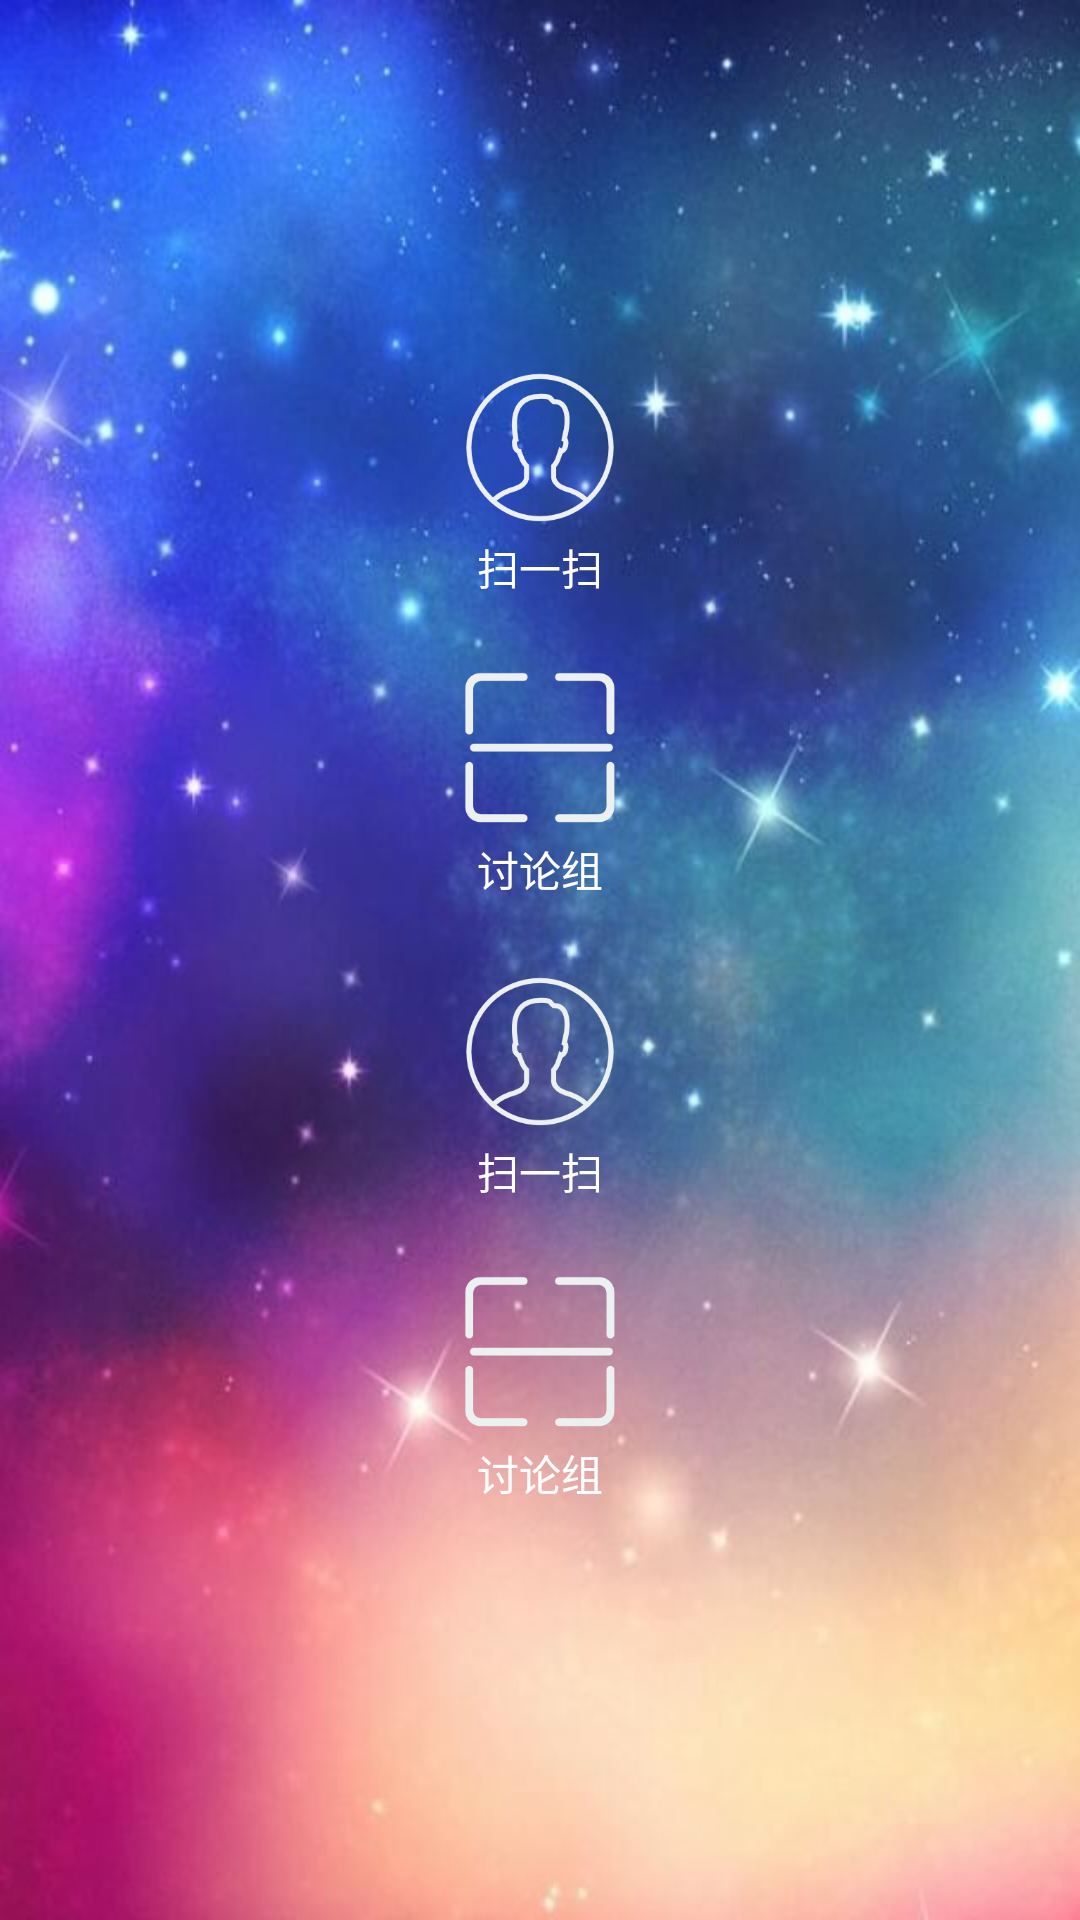

Screen size 1080px x 1920px. Icon name, then its center in pixels as (x,y):
saoma: (540,748), (540,1352)
wode: (540,446), (540,1050)
